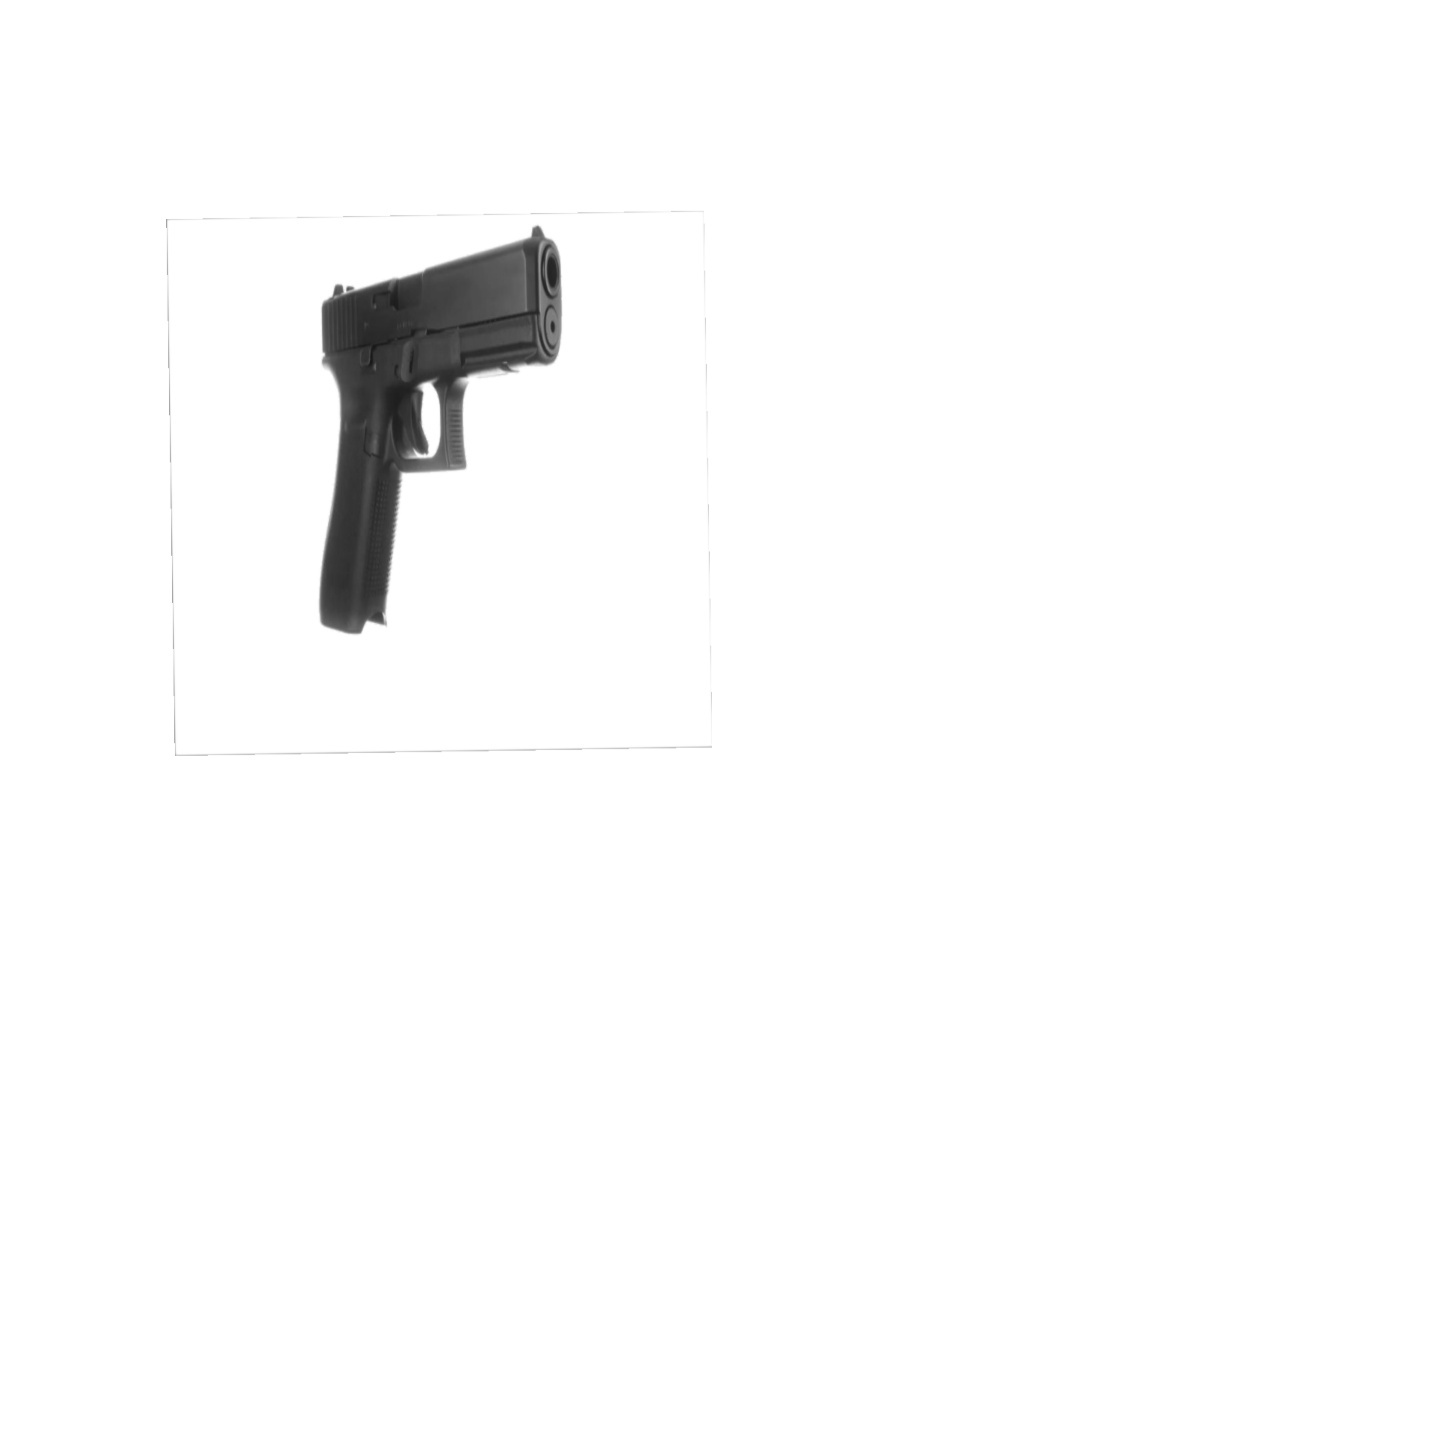gun: (287, 226, 602, 649)
